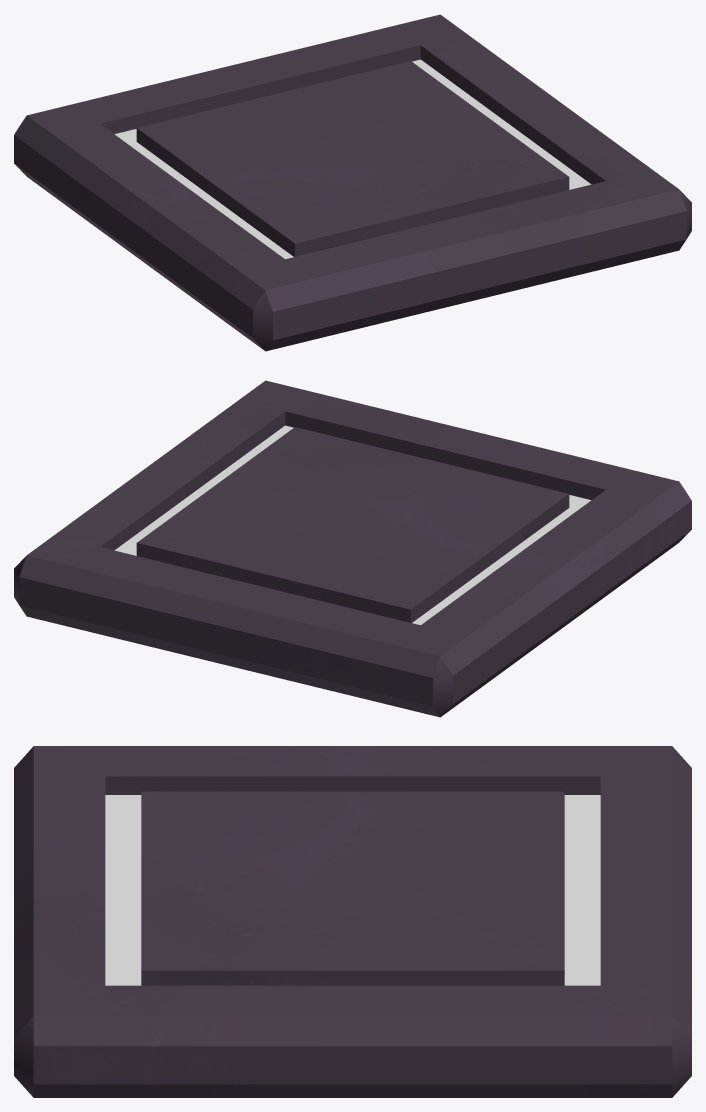
File: PRM Floor Tile Purple.fbx
3 renders of one model, top to bottom at view 1: azimuth 30°, elevation 25°; view 2: azimuth 150°, elevation 25°; view 3: azimuth 270°, elevation 25°, orthographic. The views are drawn at different scales.
Visible parts, largest first — view 1: Tile Purple; view 2: Tile Purple; view 3: Tile Purple.
Part boxes in pixels (x1,y1,x2,y2): Tile Purple: (14, 14, 691, 351); Tile Purple: (14, 380, 691, 717); Tile Purple: (14, 746, 691, 1097).
Size of the model in its own units: 1194 by 159 by 1194.
